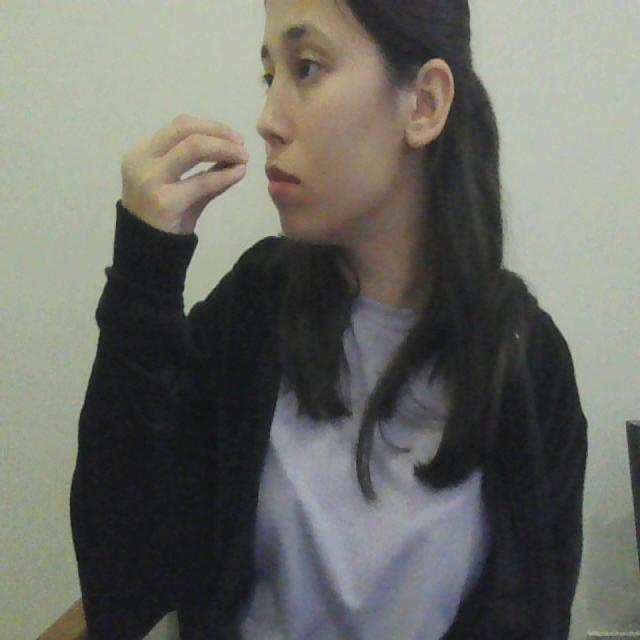Yemek: (114, 106, 303, 206)
